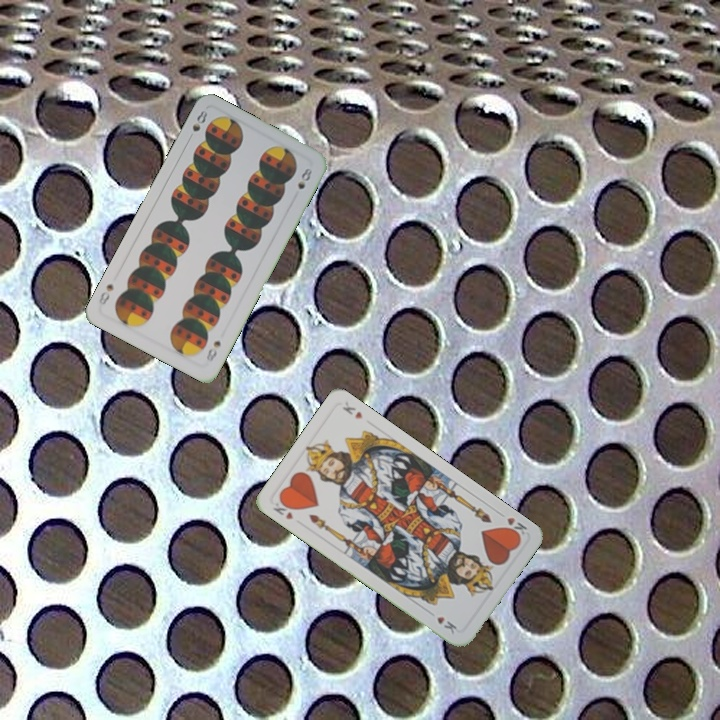HK: (494, 508, 530, 541), (269, 495, 297, 522)
S8: (188, 106, 210, 134), (202, 336, 223, 365)
